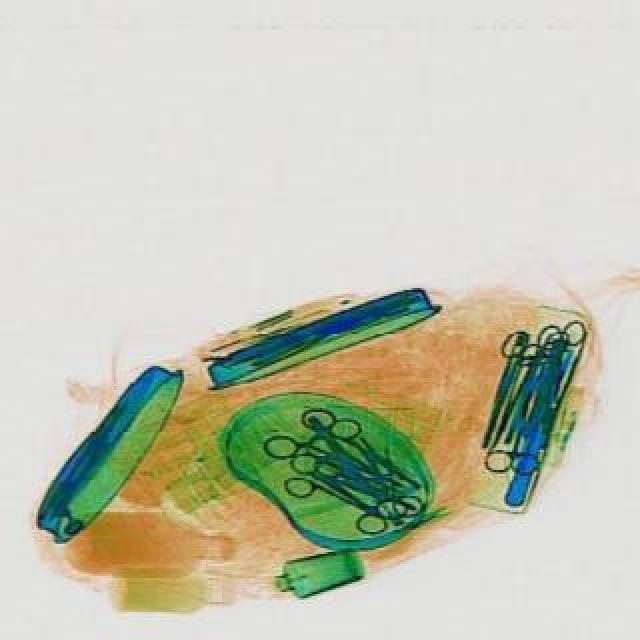pliers: (272, 446, 386, 534), (308, 456, 410, 544), (514, 328, 580, 408), (526, 316, 586, 404), (478, 418, 546, 480)
